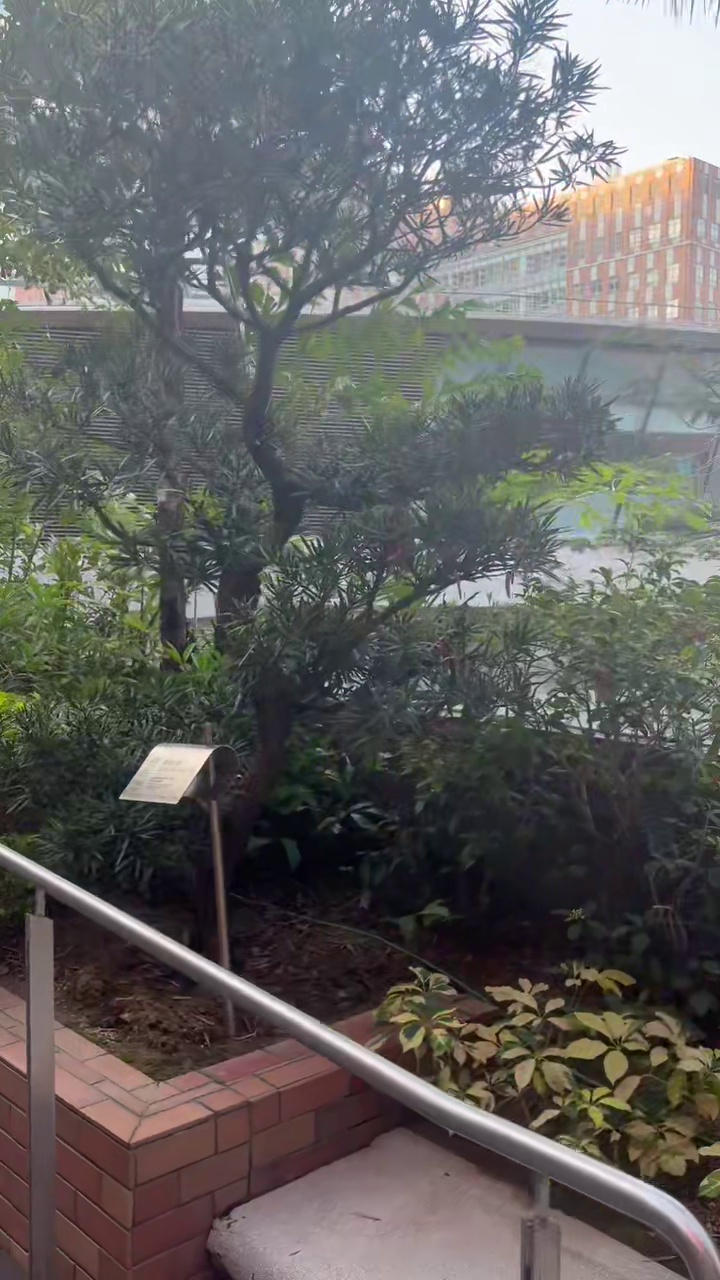Podocarpus macrophyllus: (0, 0, 615, 871)
